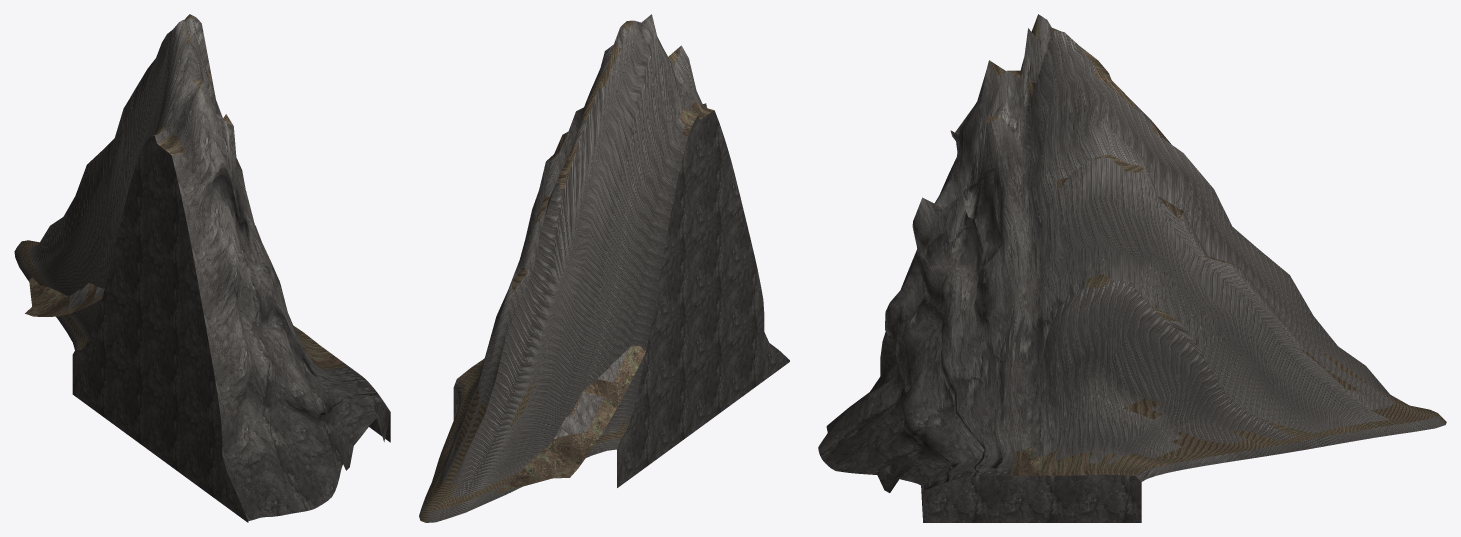
File: seacliff_endcap_right_h8_b_v5_autumn.glb
3 views of the same model, side by side, from view 1: azimuth 30°, elevation 25°; view 2: azimuth 150°, elevation 25°; view 3: azimuth 270°, elevation 25° (orthographic). The views are drawn at different scales.
Parts seen in each view (by area): view 1: seacliff_endcap_right_h8_b; view 2: seacliff_endcap_right_h8_b; view 3: seacliff_endcap_right_h8_b.
Part boxes in pixels (x1,y1,x2,y2): seacliff_endcap_right_h8_b: (14, 14, 390, 522); seacliff_endcap_right_h8_b: (419, 14, 789, 522); seacliff_endcap_right_h8_b: (818, 14, 1446, 522).
Size of the model in its own units: 6 by 12.72 by 16.74.
2 materials, 2 textured.
